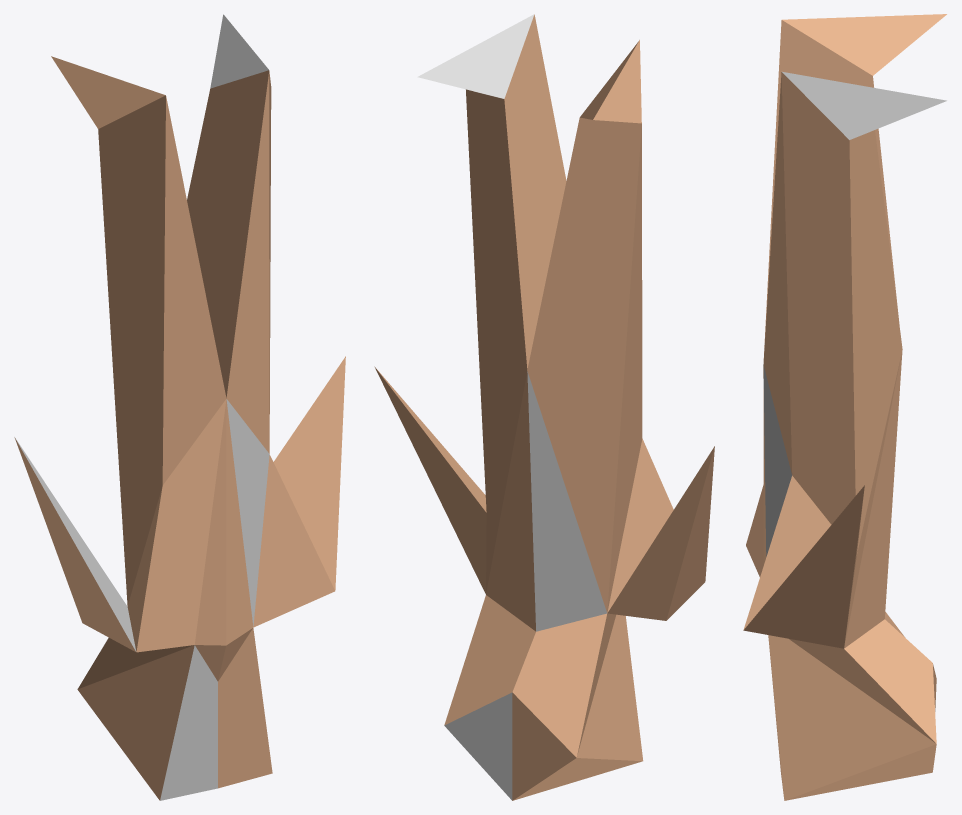
Rendered from spotowner.fbx.
3 views of the same model, side by side, from view 1: azimuth 30°, elevation 25°; view 2: azimuth 150°, elevation 25°; view 3: azimuth 270°, elevation 25° (orthographic). The views are drawn at different scales.
Visible parts, largest first — view 1: Cube.001; view 2: Cube.001; view 3: Cube.001.
Boxes of the visible parts, <box> form: Cube.001: <box>14,14,345,800</box>; Cube.001: <box>374,14,714,800</box>; Cube.001: <box>743,14,946,800</box>.
Size of the model in its own units: 275 by 557 by 142.
